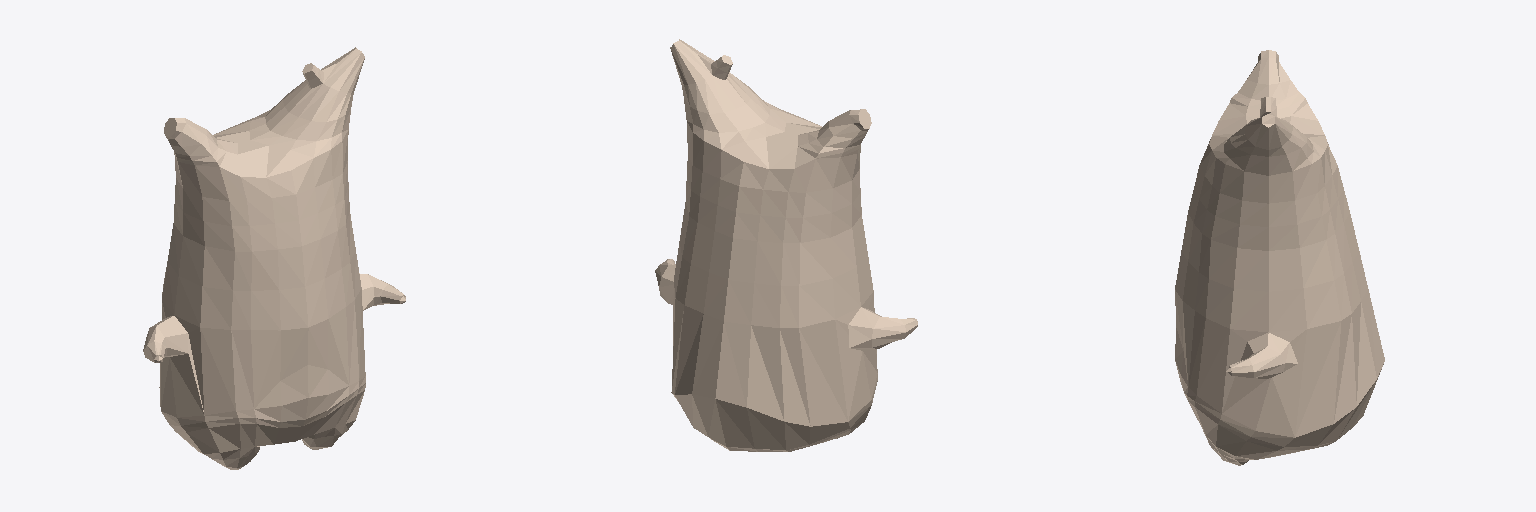
File: frame_0006.obj
3 renders of one model, left to right at view 1: azimuth 30°, elevation 25°; view 2: azimuth 150°, elevation 25°; view 3: azimuth 270°, elevation 25°, orthographic.
Visible parts, largest first — view 1: korok; view 2: korok; view 3: korok.
Part boxes in pixels (left/top/right/bottom): korok: left=143, top=47, right=405, bottom=469; korok: left=655, top=39, right=917, bottom=451; korok: left=1175, top=50, right=1384, bottom=465.
Bounding box in the file's own units: 1.44 × 2.06 × 1.04.